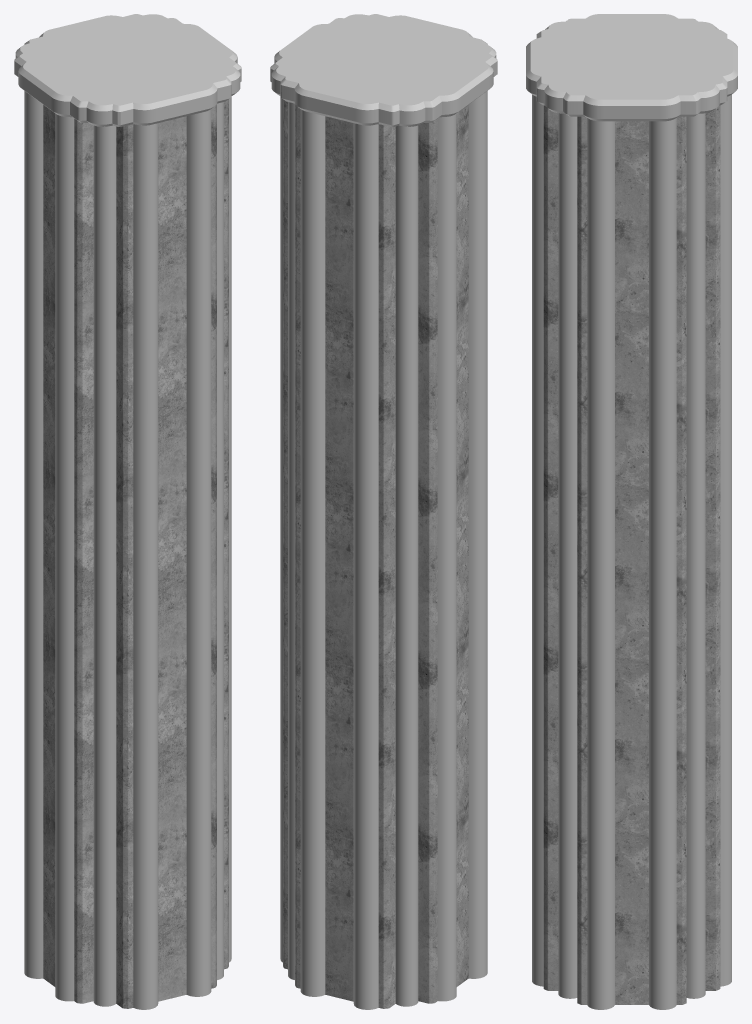
The model's file is SM_TowerPillar_02a.fbx.
3 renders of one model, left to right at view 1: azimuth 30°, elevation 25°; view 2: azimuth 150°, elevation 25°; view 3: azimuth 270°, elevation 25°, orthographic.
Parts seen in each view (by area): view 1: SM_TowerPillar_02a_LOD0; view 2: SM_TowerPillar_02a_LOD0; view 3: SM_TowerPillar_02a_LOD0.
Part boxes in pixels (<box>): SM_TowerPillar_02a_LOD0: <box>14,14,241,1009</box>; SM_TowerPillar_02a_LOD0: <box>270,14,497,1009</box>; SM_TowerPillar_02a_LOD0: <box>526,14,737,1009</box>.
Bounding box in the file's own units: 443 × 443 × 2100.
